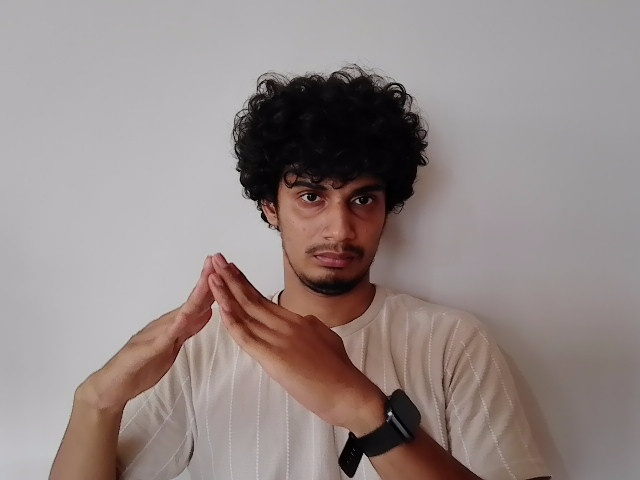home: (84, 256, 373, 422)
